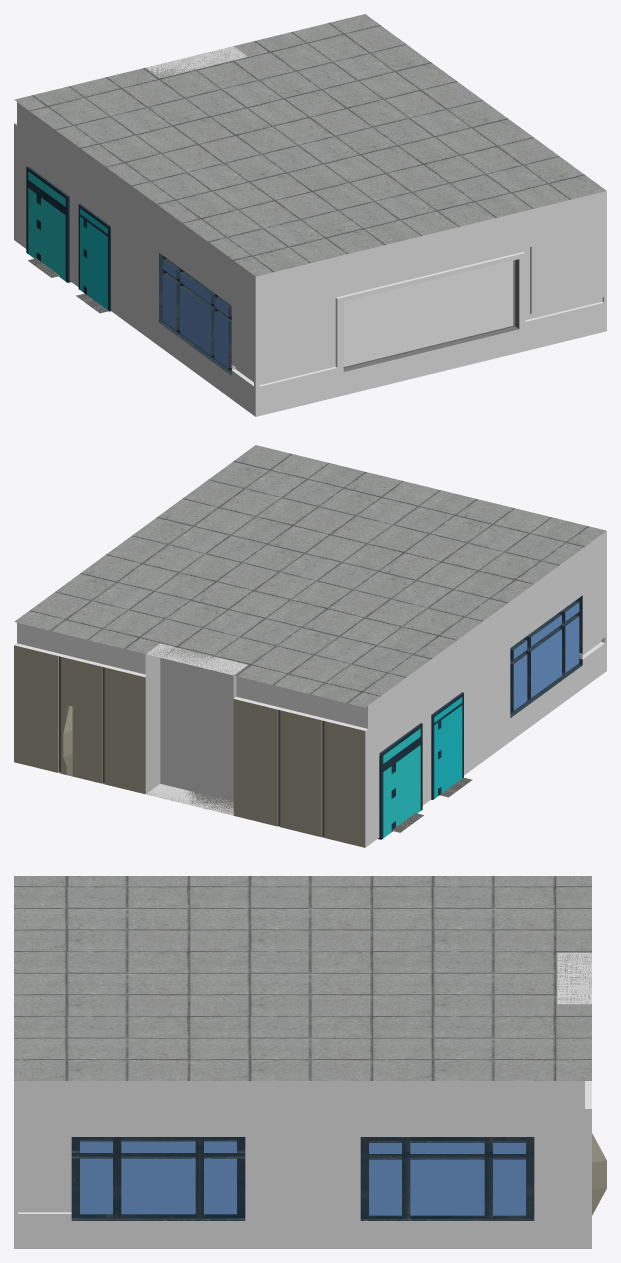
Rendered from aulamejorada.fbx.
The picture shows the model from 3 angles, top to bottom: view 1: azimuth 30°, elevation 25°; view 2: azimuth 150°, elevation 25°; view 3: azimuth 270°, elevation 25°; orthographic projection. The views are drawn at different scales.
Parts seen in each view (by area): view 1: Techo, Paredes, Pizarron, Ventanas, PuertaGrande, Cube.001, Cube; view 2: Techo, Paredes, Cube, Ventanas, PuertaGrande, Cube.001, Piso; view 3: Techo, Paredes, Ventanas, Cube.
Boxes of the visible parts, x1,y1,x2,y2 form: Techo: [14, 14, 606, 276]; Paredes: [14, 102, 606, 416]; Pizarron: [343, 259, 519, 371]; Ventanas: [159, 253, 233, 375]; PuertaGrande: [26, 166, 70, 282]; Cube.001: [78, 204, 110, 311]; Cube: [146, 46, 247, 77]; Techo: [14, 445, 606, 707]; Paredes: [14, 531, 606, 847]; Cube: [145, 643, 247, 815]; Ventanas: [510, 595, 582, 717]; PuertaGrande: [378, 723, 422, 839]; Cube.001: [431, 692, 463, 799]; Piso: [59, 772, 472, 837]; Techo: [14, 876, 591, 1080]; Paredes: [14, 1081, 606, 1248]; Ventanas: [71, 1137, 534, 1220]; Cube: [557, 953, 591, 1004].
Size of the model in its own units: 478 by 179 by 566.
